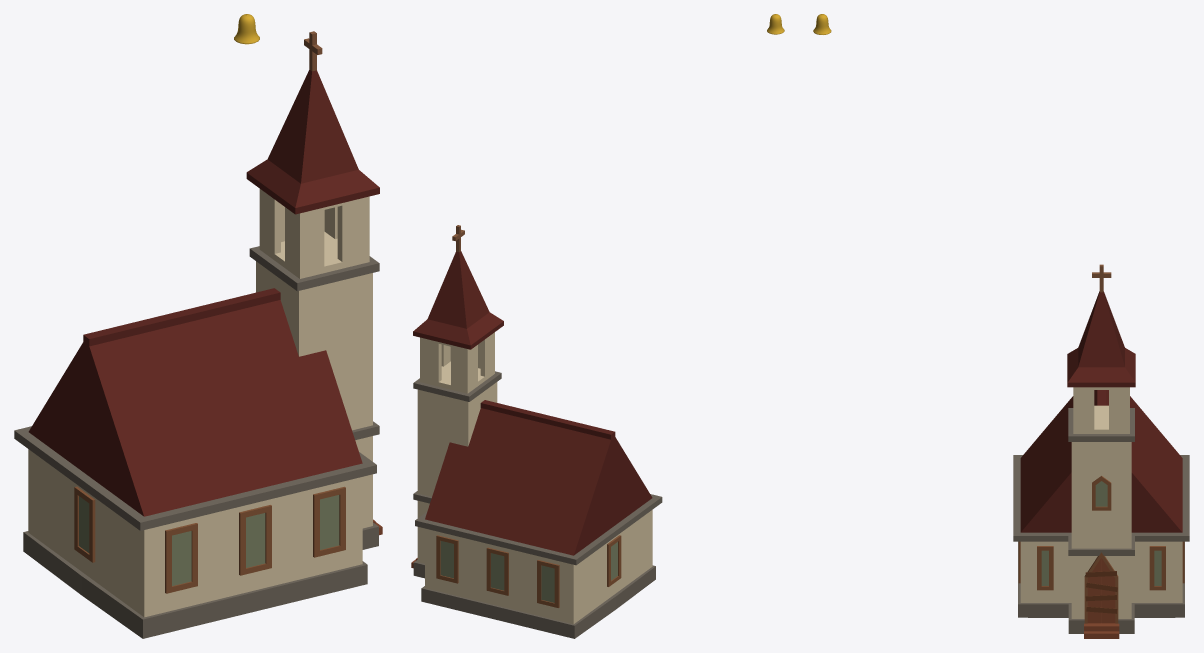
File: Kirche_Einzelobjekt.fbx
3 renders of one model, left to right at view 1: azimuth 30°, elevation 25°; view 2: azimuth 150°, elevation 25°; view 3: azimuth 270°, elevation 25°, orthographic. The views are drawn at different scales.
Parts seen in each view (by area): view 1: Korpus.003; view 2: Korpus.003; view 3: Korpus.003.
Boxes of the visible parts, box(x1,y1,x2,y2) form: Korpus.003: box(14, 14, 382, 638); Korpus.003: box(411, 14, 784, 638); Korpus.003: box(813, 14, 1189, 638).
Size of the model in its own units: 1092 by 2295 by 1524.
